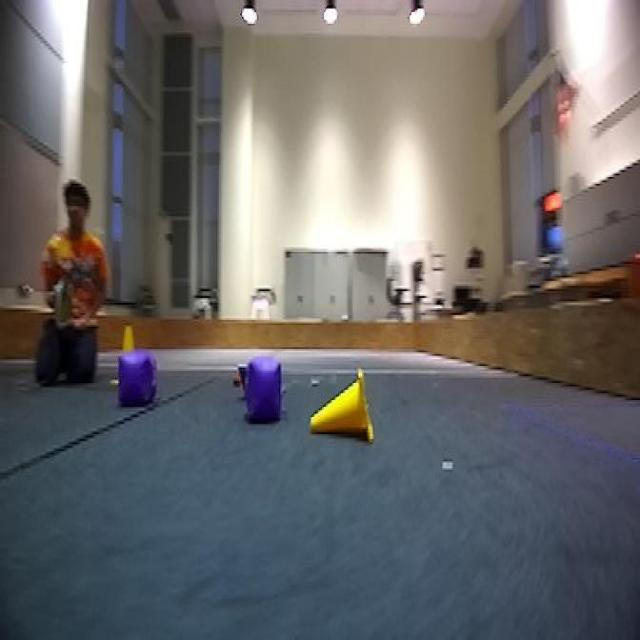frc_cone: (305, 361, 377, 451), (110, 318, 148, 351)
frc_cube: (239, 354, 286, 427), (116, 347, 148, 410)
